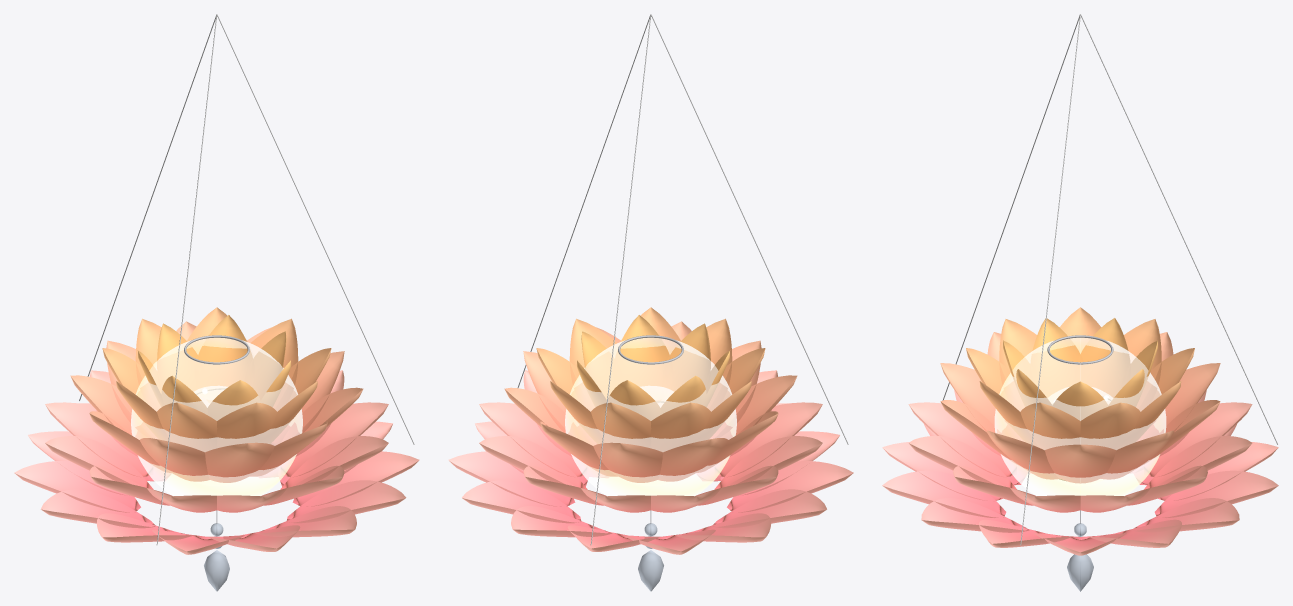
The model's file is lampu.glb.
3 views of the same model, side by side, from view 1: azimuth 30°, elevation 25°; view 2: azimuth 150°, elevation 25°; view 3: azimuth 270°, elevation 25° (orthographic).
Parts seen in each view (by area): view 1: lampu_teratai_sendok; view 2: lampu_teratai_sendok; view 3: lampu_teratai_sendok.
Part boxes in pixels (bbox=[...]): lampu_teratai_sendok: bbox=[14, 14, 419, 591]; lampu_teratai_sendok: bbox=[448, 14, 853, 591]; lampu_teratai_sendok: bbox=[882, 14, 1278, 591].
Bounding box in the file's own units: 0.4024 × 0.6302 × 0.3923.
